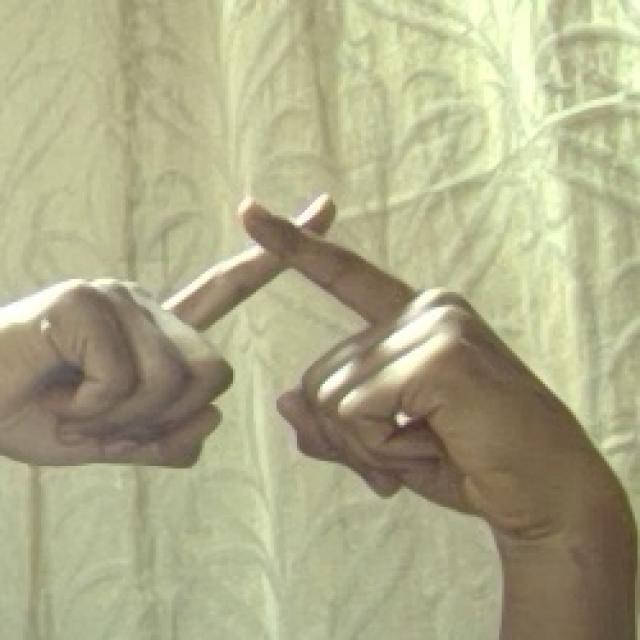Alphabet-X: (15, 175, 530, 522)
